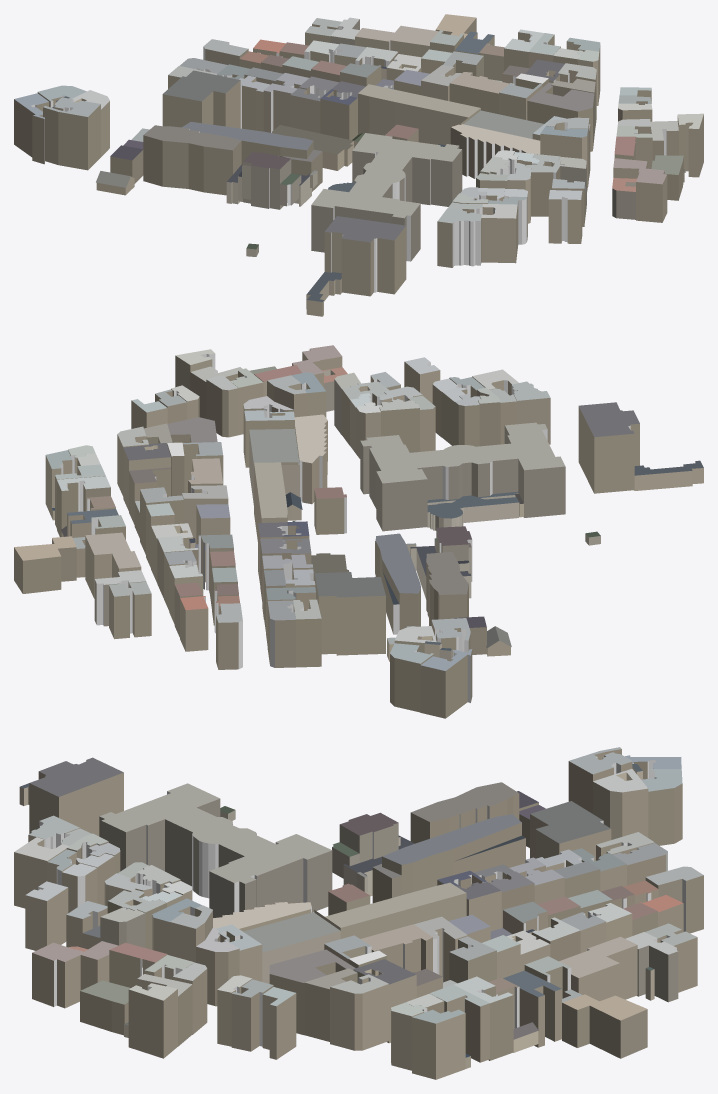
3 renders of one model, top to bottom at view 1: azimuth 30°, elevation 25°; view 2: azimuth 150°, elevation 25°; view 3: azimuth 270°, elevation 25°, orthographic. The views are drawn at different scales.
Parts seen in each view (by area): view 1: tuile; view 2: tuile; view 3: tuile.
Boxes of the visible parts, box(x1,y1,x2,y2) form: tuile: box(14, 14, 703, 316); tuile: box(14, 345, 703, 718); tuile: box(14, 747, 703, 1079).
Bounding box in the file's own units: 260 × 42.81 × 266.
